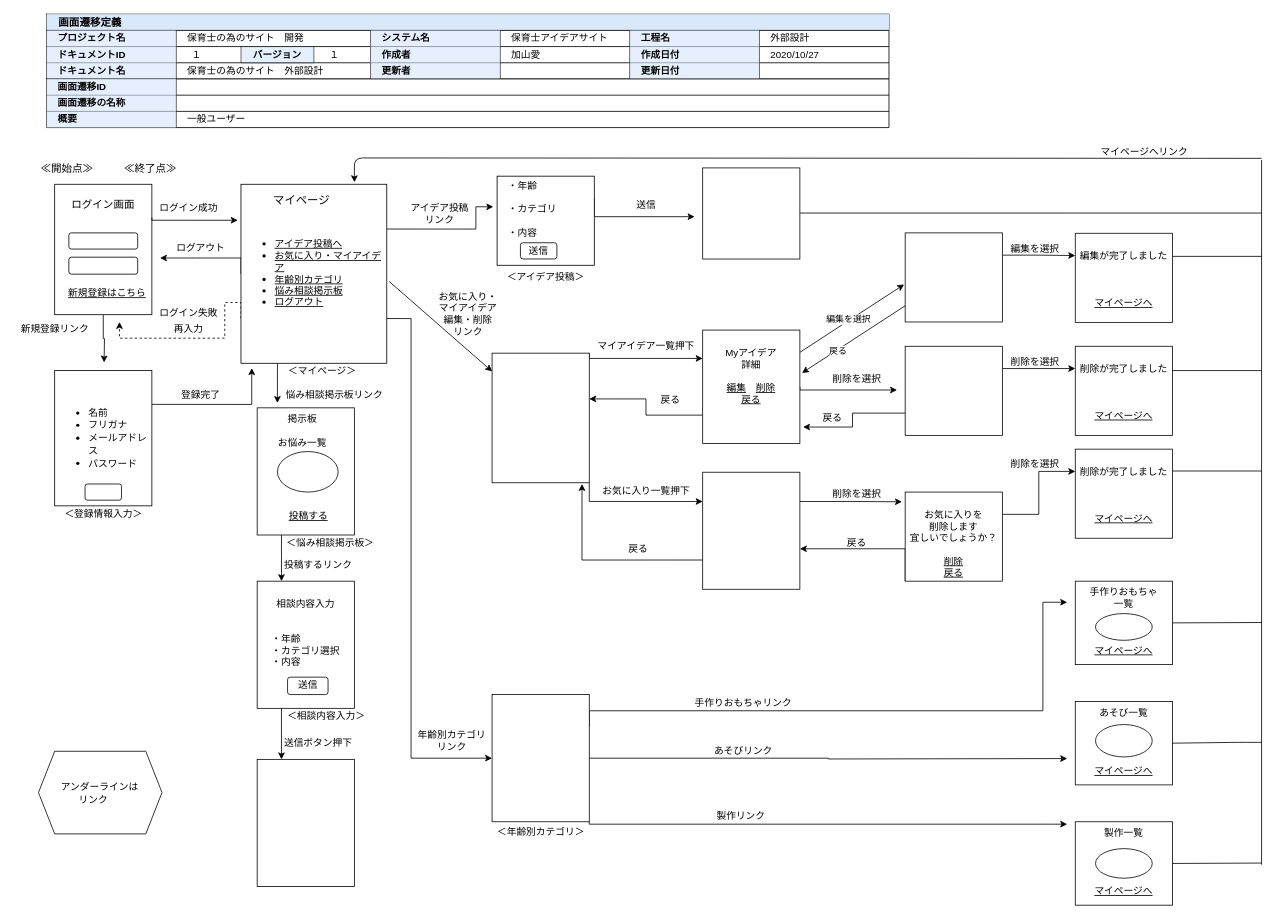
The diagram is 1282 pixels wide and 919 high, and some of its shapes have lost their labels. The shapes that lost their labels are listed below. From the top down, each one's centre as x and y in pixels, then its label:
At [751,213]: "投稿が完了 しました マイページへ".
At [953,277]: "この内容で 宜しいでしょうか？ 編集 戻る".
At [953,390]: "このアイデアを 削除します 宜しいでしょうか？ 削除 戻る".
At [540,417]: "マイアイデア・ お気に入り一覧 ・ マイアイデア一覧 ・ お気に入り一覧".
At [103,491]: "登録".
At [751,530]: "お気に入り詳細 削除 戻る".
At [540,758]: "△歳クラス ・ 手作りおもちゃ ・ 絵本 ・ 製作 戻る".
At [305,823]: "相談内容を 掲載しました マイページへ".
